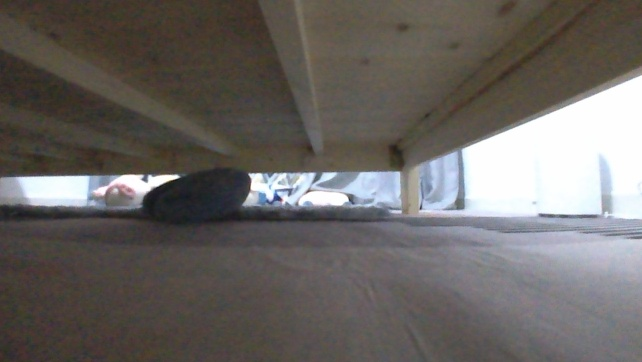blanket: (0, 197, 641, 361)
